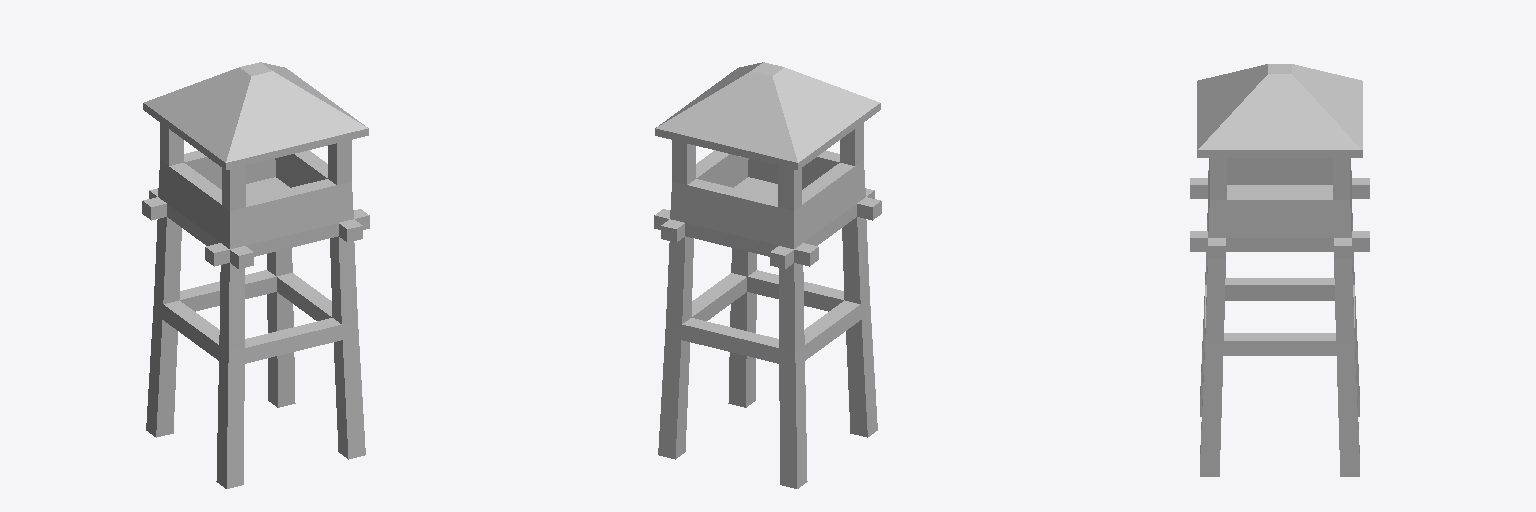
File: aWatchtower1.obj
3 renders of one model, left to right at view 1: azimuth 30°, elevation 25°; view 2: azimuth 150°, elevation 25°; view 3: azimuth 270°, elevation 25°, orthographic.
Parts seen in each view (by area): view 1: Watchtower_With_Roof_Cube.022; view 2: Watchtower_With_Roof_Cube.022; view 3: Watchtower_With_Roof_Cube.022.
Boxes of the visible parts, box(x1,y1,x2,y2) form: Watchtower_With_Roof_Cube.022: box(142, 62, 369, 488); Watchtower_With_Roof_Cube.022: box(654, 62, 881, 488); Watchtower_With_Roof_Cube.022: box(1190, 64, 1369, 476).
Bounding box in the file's own units: 1.49 × 3.44 × 1.49.